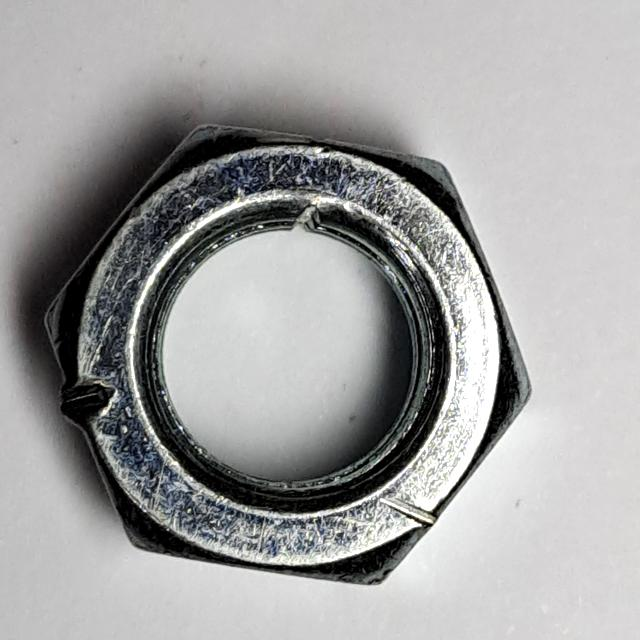Scratches: (25, 113, 545, 599)
